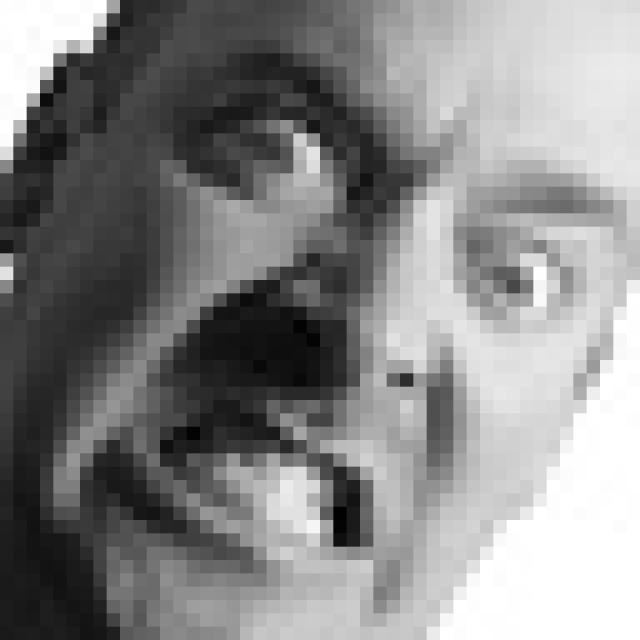angry: (121, 41, 640, 576)
